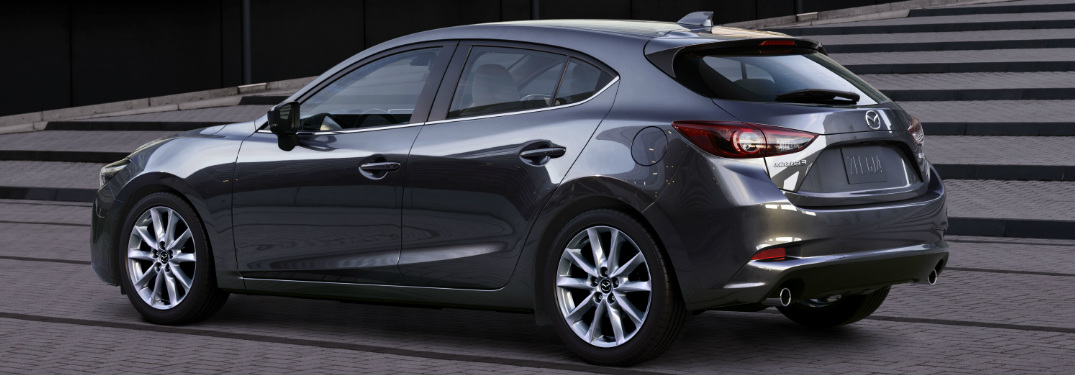Mazda3 Hatchback: (86, 14, 952, 368)
